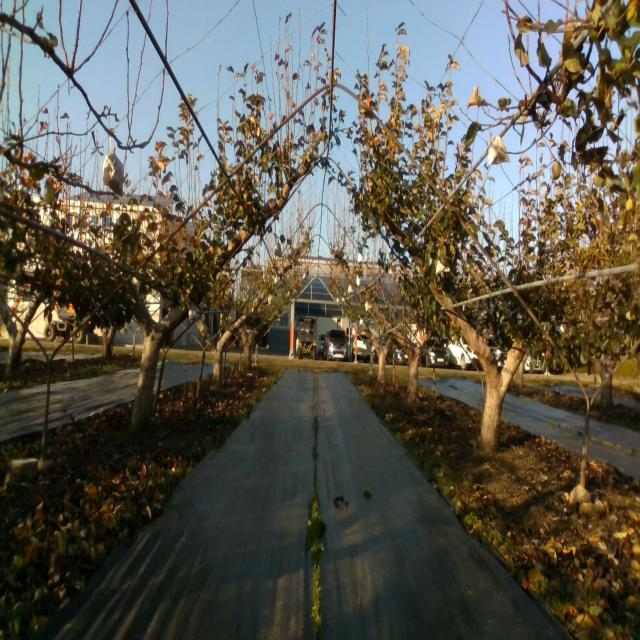pearbags: (102, 147, 124, 194), (488, 136, 510, 165), (368, 210, 379, 234)
